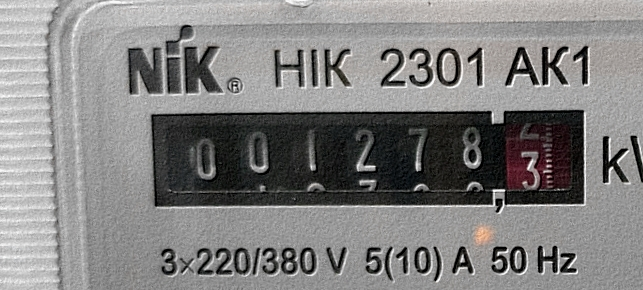0: (192, 134, 222, 183), (244, 128, 273, 176)
1: (302, 125, 324, 173)
2: (351, 127, 381, 175), (517, 121, 542, 142)
3: (516, 148, 545, 193)
7: (404, 125, 429, 173)
8: (459, 125, 486, 171)
screen: (131, 69, 608, 247)
